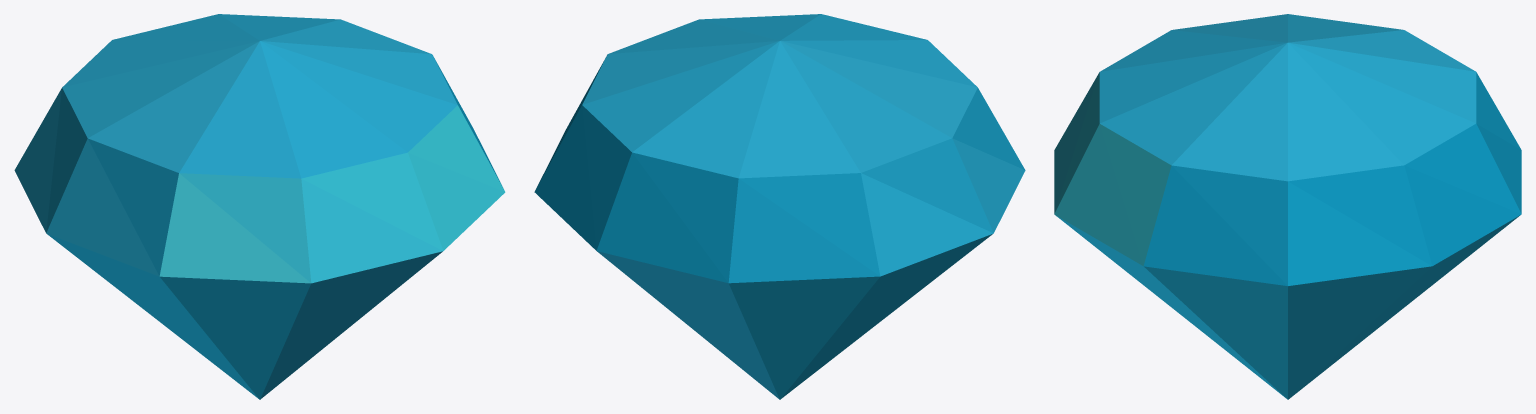
Rendered from prop_treasure_gem_sapphire_2.fbx.
3 views of the same model, side by side, from view 1: azimuth 30°, elevation 25°; view 2: azimuth 150°, elevation 25°; view 3: azimuth 270°, elevation 25° (orthographic).
Parts seen in each view (by area): view 1: prop_treasure_gem_sapphire_2; view 2: prop_treasure_gem_sapphire_2; view 3: prop_treasure_gem_sapphire_2.
Part boxes in pixels (box(x1,y1,x2,y2)): prop_treasure_gem_sapphire_2: box(14, 14, 505, 399); prop_treasure_gem_sapphire_2: box(534, 14, 1025, 399); prop_treasure_gem_sapphire_2: box(1054, 14, 1521, 399).
Size of the model in its own units: 0.5011 by 0.4021 by 0.4766.
